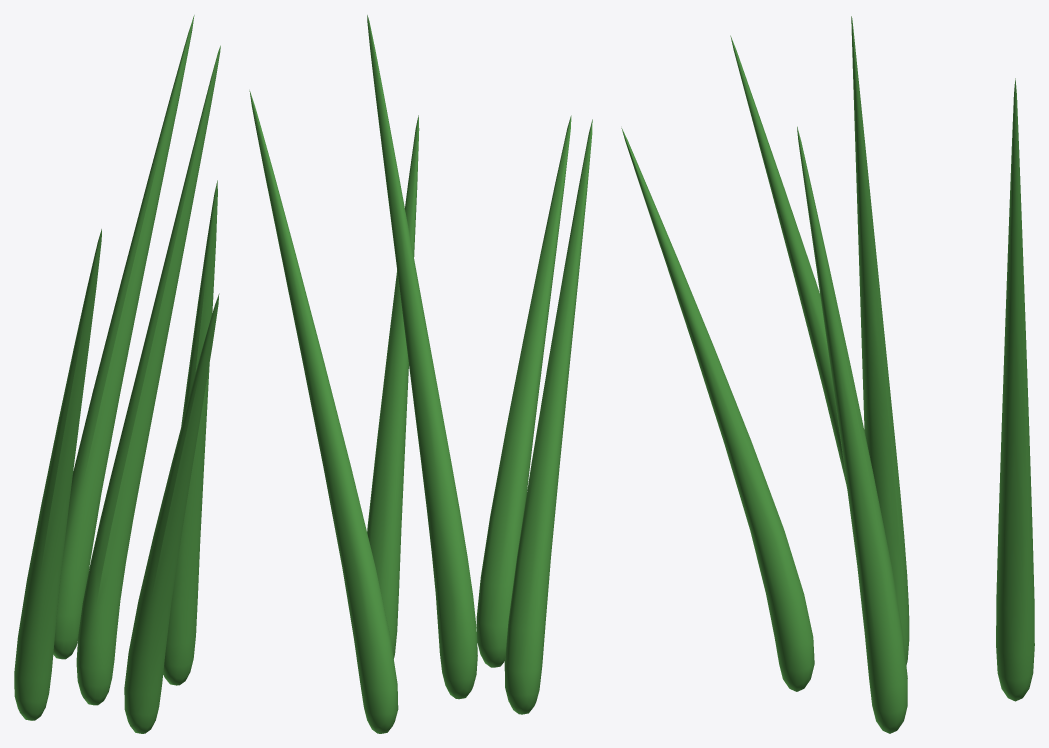
File: Grass 1.fbx
The picture shows the model from 3 angles, left to right: view 1: azimuth 30°, elevation 25°; view 2: azimuth 150°, elevation 25°; view 3: azimuth 270°, elevation 25°; orthographic projection. The views are drawn at different scales.
Parts seen in each view (by area): view 1: Cube; view 2: Cube; view 3: Cube.
Part boxes in pixels (left/top/right/bottom): Cube: left=14, top=15, right=220, bottom=733; Cube: left=249, top=15, right=592, bottom=733; Cube: left=621, top=16, right=1034, bottom=733.
Size of the model in its own units: 31.62 by 83.36 by 42.54.
